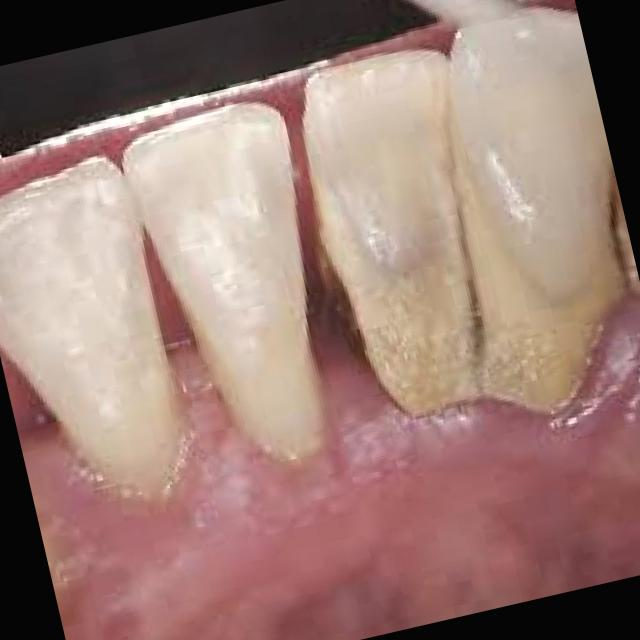calculus: (302, 194, 507, 440), (454, 209, 640, 434)
